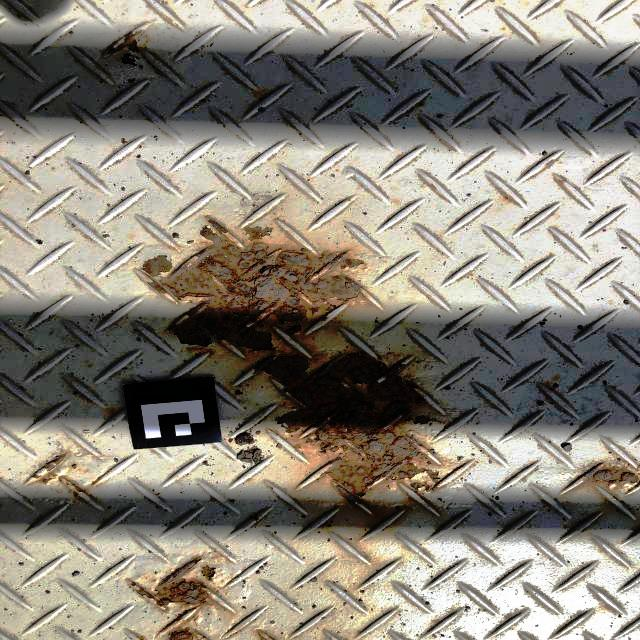Corrosion: (249, 351, 457, 509), (140, 223, 368, 354), (130, 554, 230, 623), (30, 452, 89, 497), (579, 460, 640, 502), (105, 29, 151, 68), (162, 614, 212, 640), (241, 225, 275, 242), (208, 218, 233, 241), (197, 563, 219, 585), (161, 12, 185, 31), (214, 549, 234, 564), (66, 462, 90, 474), (256, 629, 276, 640), (79, 393, 93, 402), (253, 89, 267, 98), (91, 478, 104, 487), (249, 513, 260, 523), (543, 159, 554, 167), (544, 382, 555, 390), (324, 632, 334, 640), (557, 178, 567, 186), (604, 604, 614, 612), (504, 195, 514, 202), (430, 183, 438, 190), (137, 634, 146, 640), (431, 619, 441, 624), (110, 408, 117, 414), (164, 1, 169, 4)
